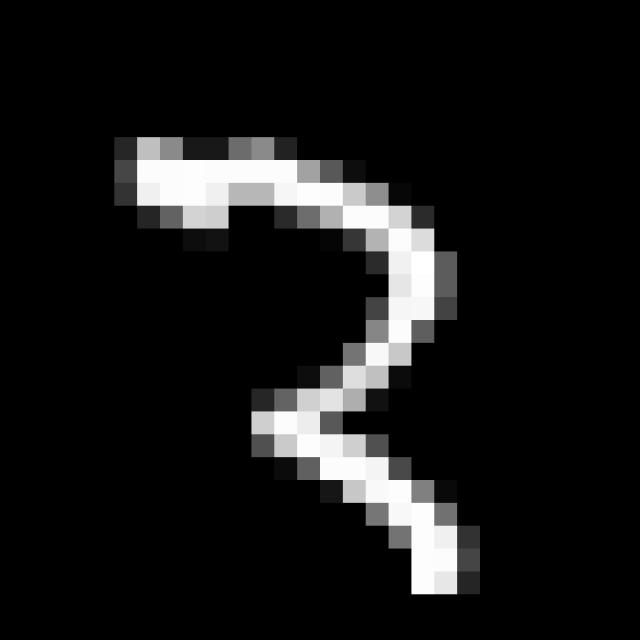three -3-: (128, 119, 476, 613)
